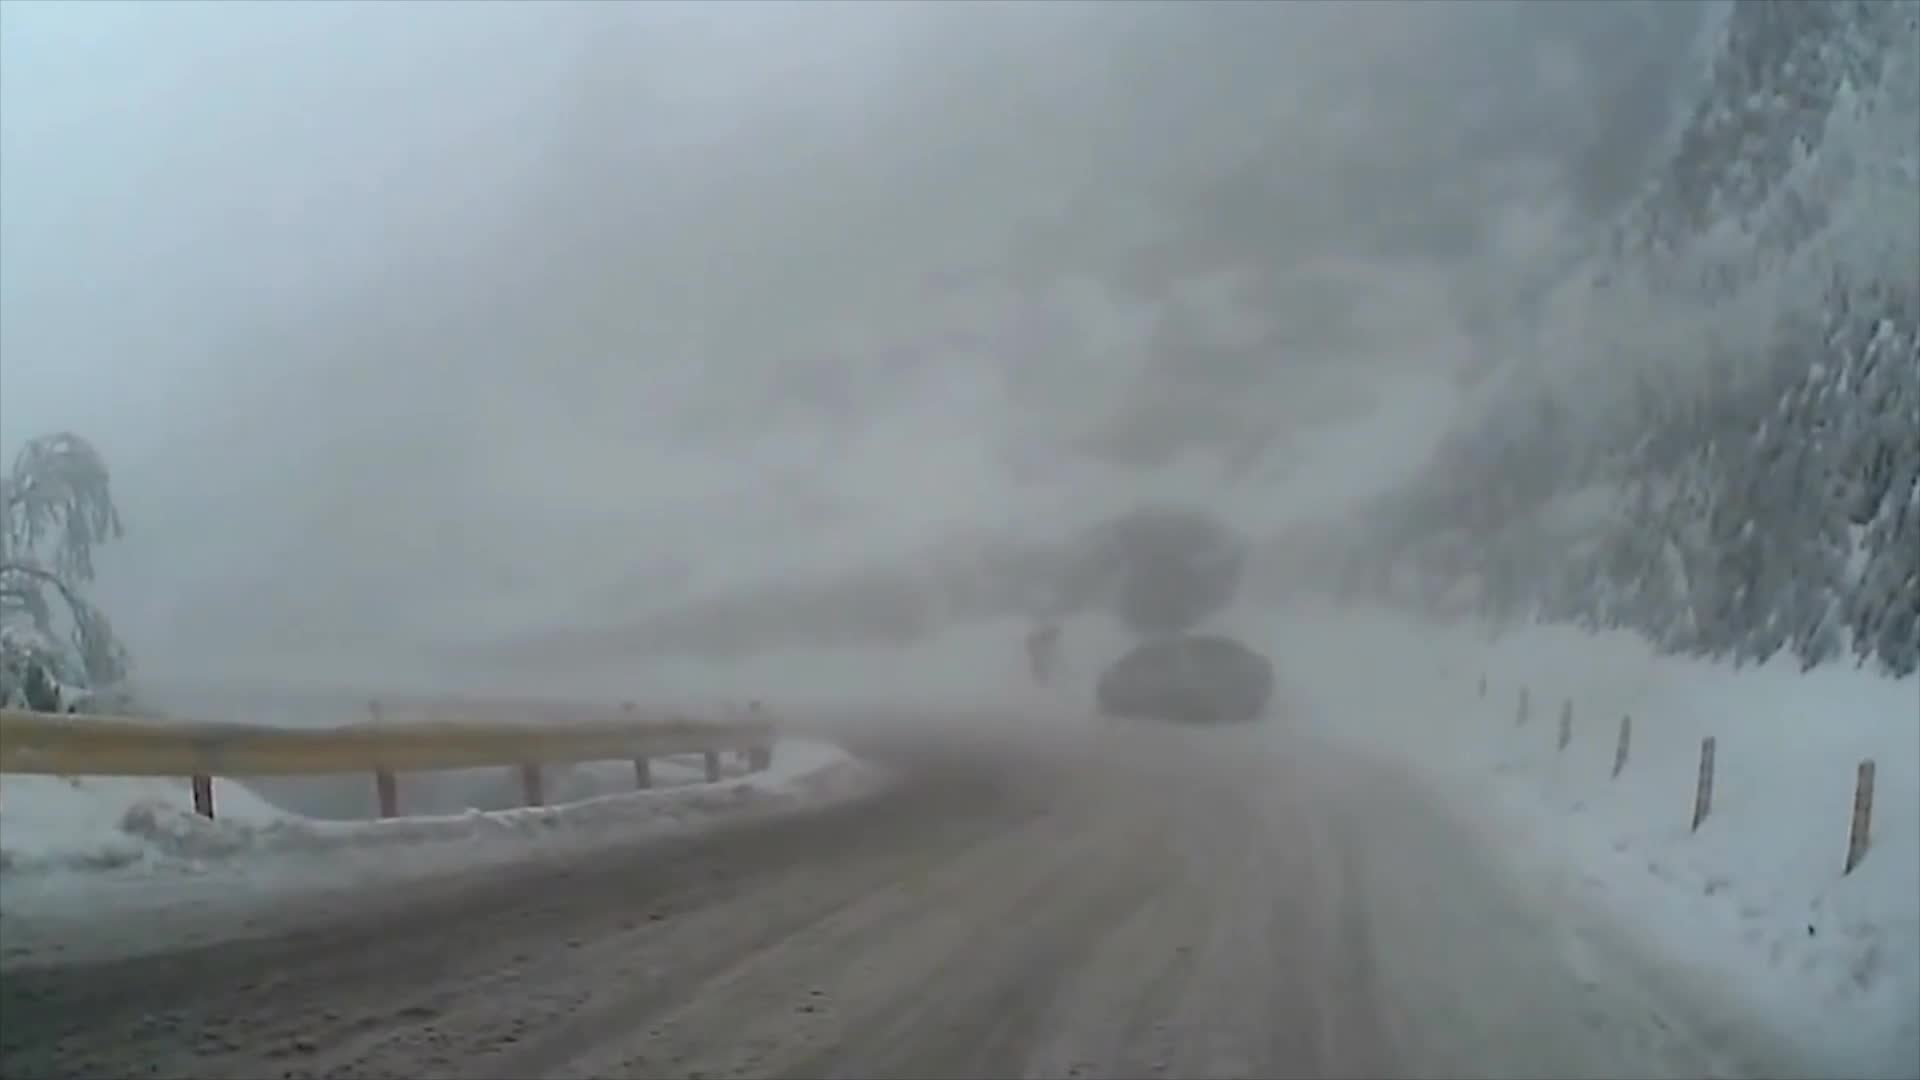pedestrian: (1027, 620, 1065, 693)
vehicle: (1096, 636, 1273, 724)
